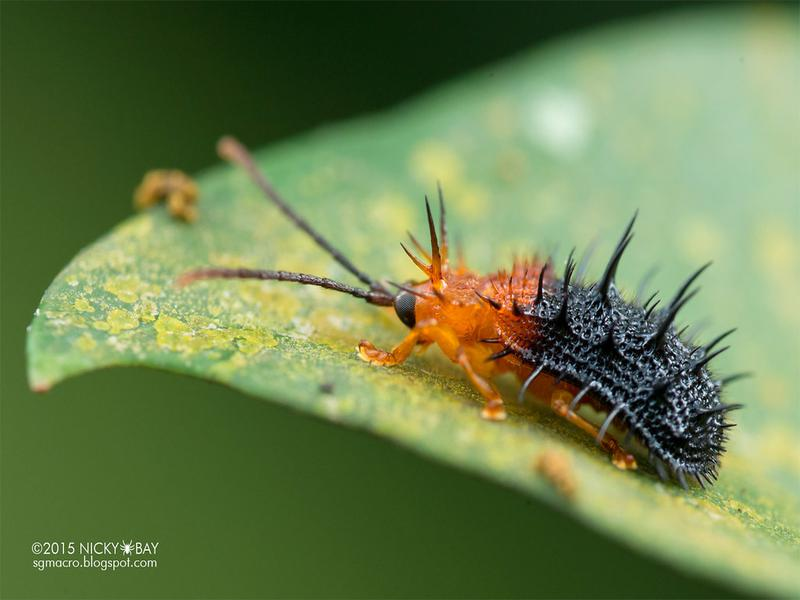Spiny_beetle: (177, 181, 751, 498)
